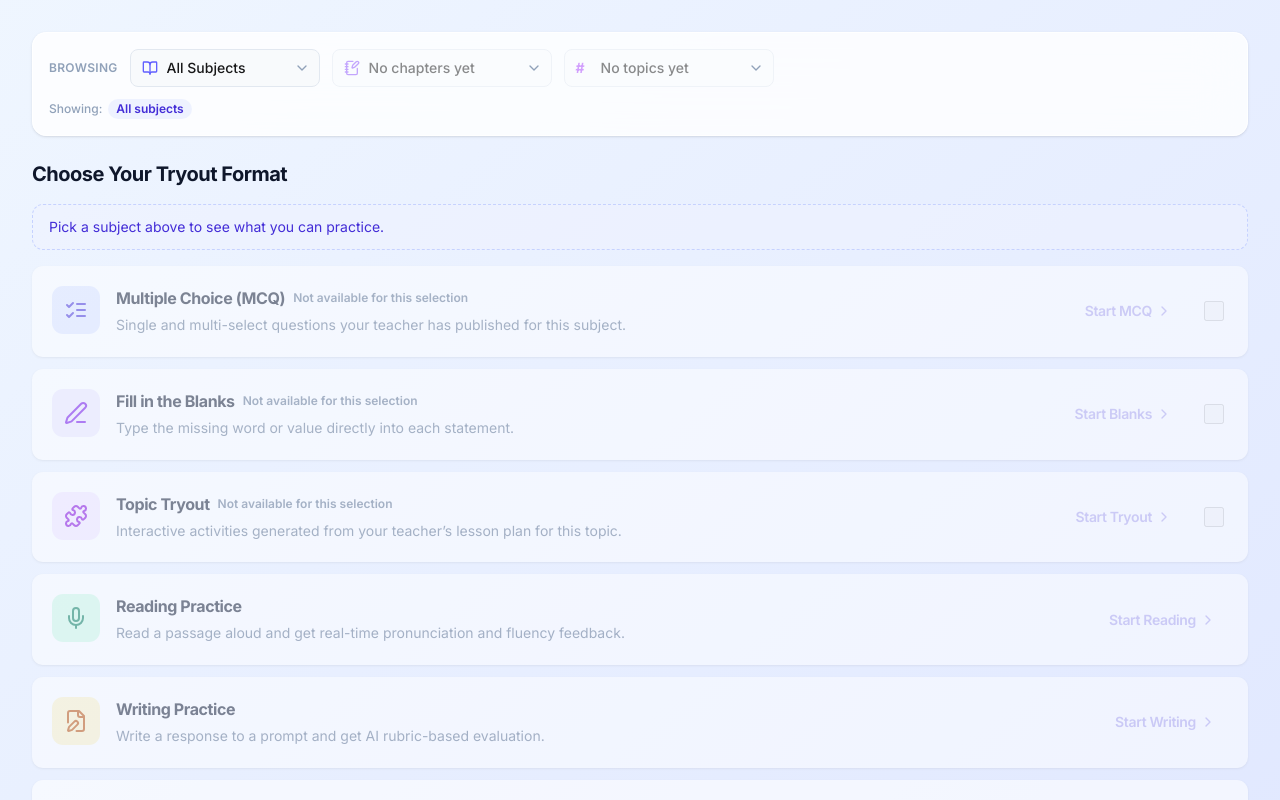
Test case: PracticePapersPortal › opens an assigned tryout once a subject and topic are selected
The image size is (1280, 800).
Select "Mathematics" in the dropdown named "Select Subject": {"x": 225, "y": 68} top-left (130, 49), bottom-right (320, 87)
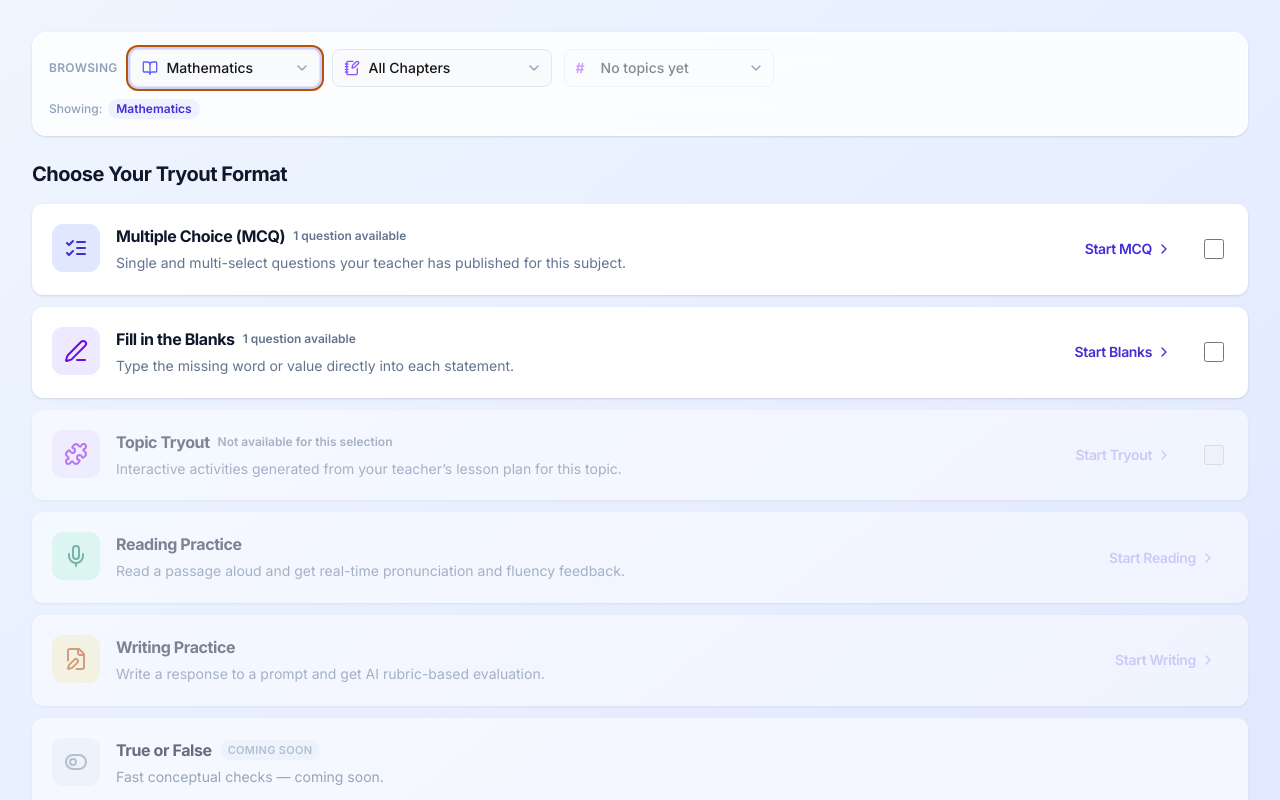
Select "Numbers" in the dropdown named "Select Chapter": {"x": 442, "y": 68} top-left (332, 49), bottom-right (552, 87)
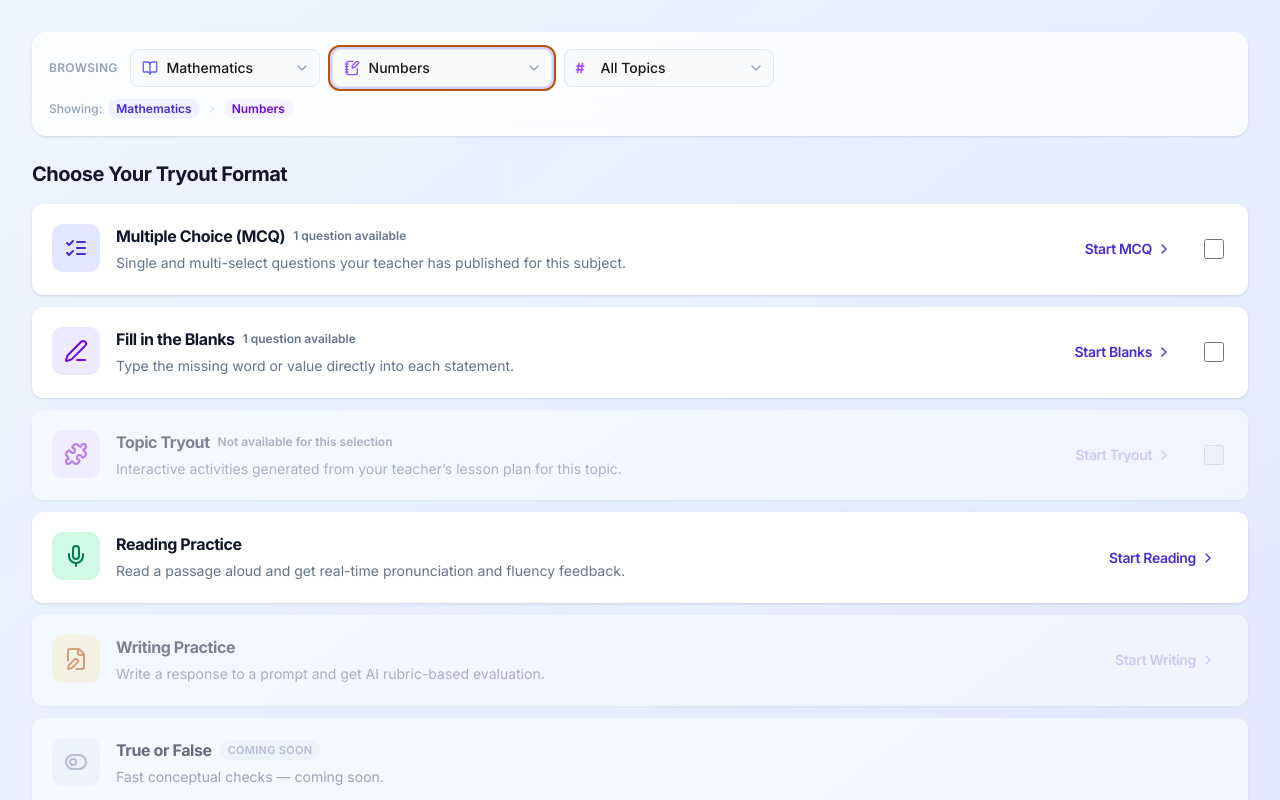
Select "Living Things" in the dropdown named "Select Topic": {"x": 669, "y": 68} top-left (564, 49), bottom-right (774, 87)
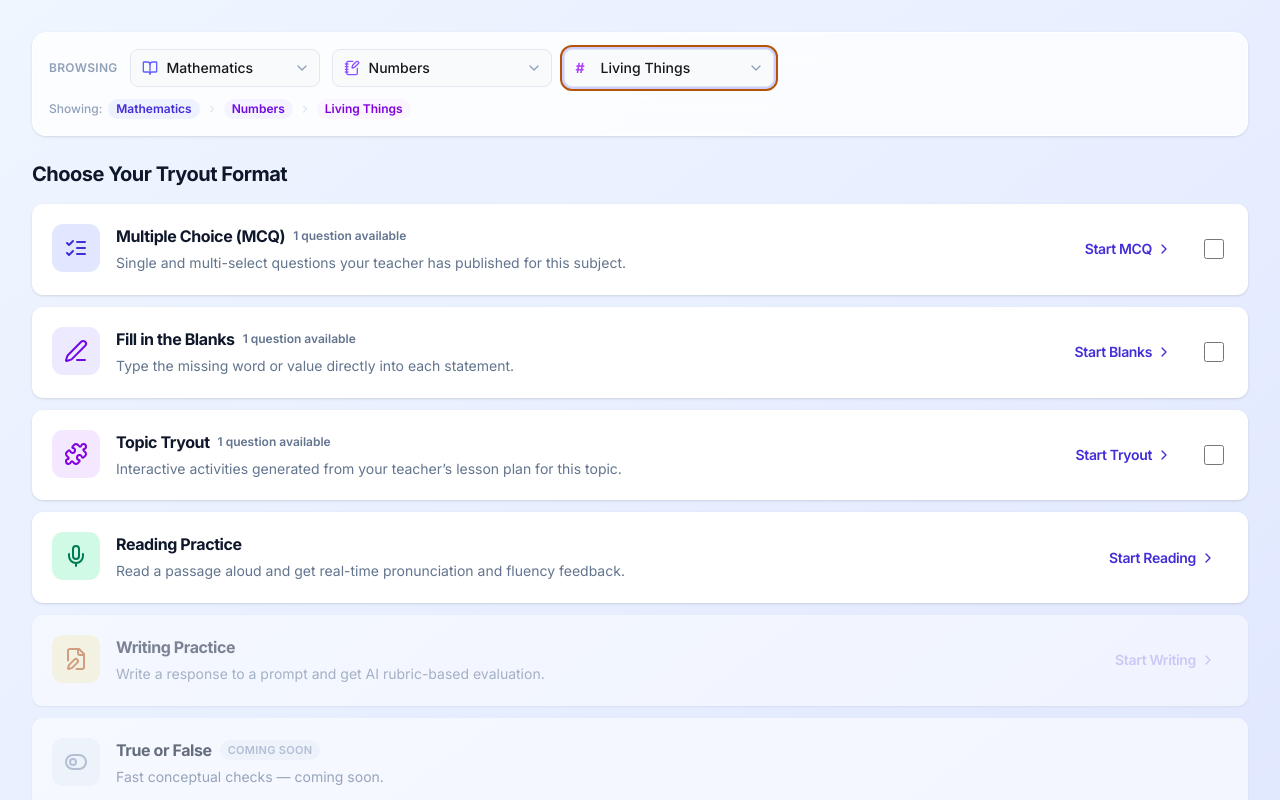
Click the button "Start Tryout": {"x": 1124, "y": 455} top-left (1064, 439), bottom-right (1184, 471)
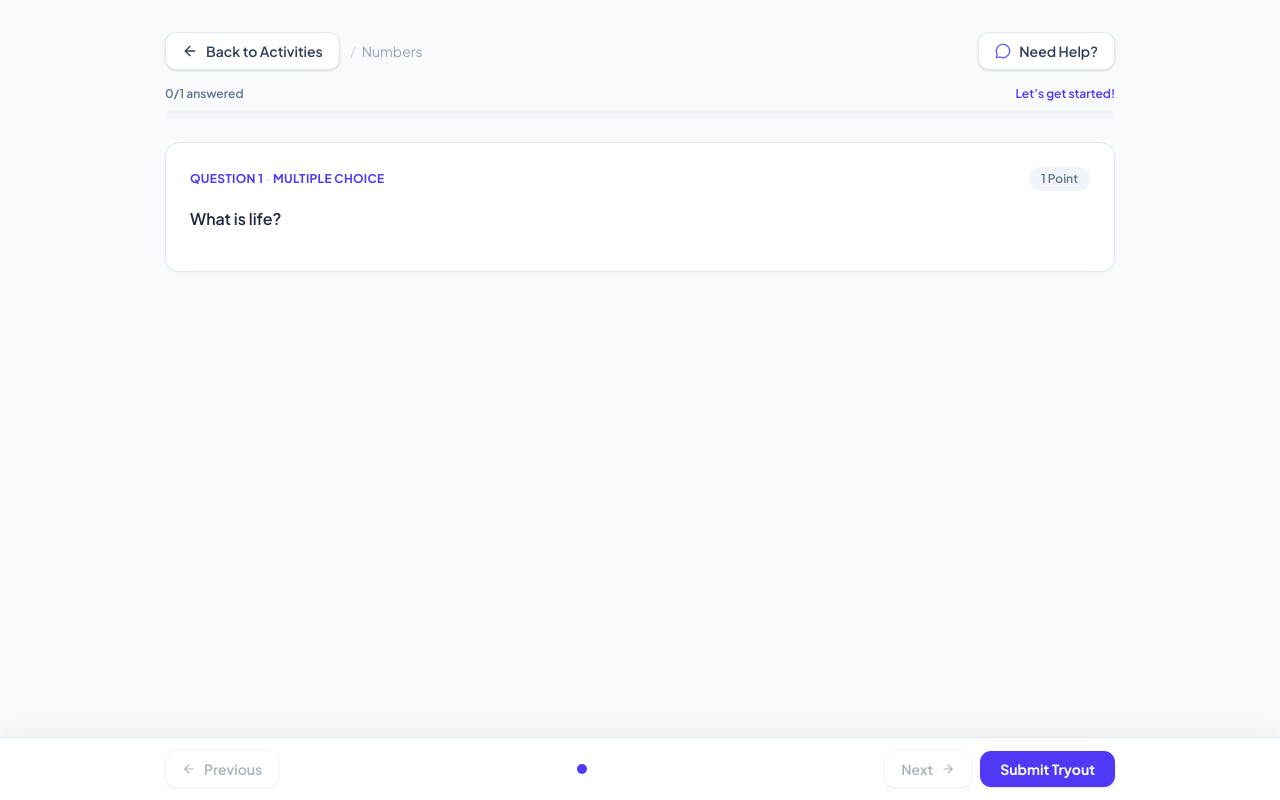
Now the text "What is life?" is shown, box top-left (190, 208), bottom-right (281, 229)
Now the button "Back to Activities" is shown, box top-left (165, 32), bottom-right (340, 70)
